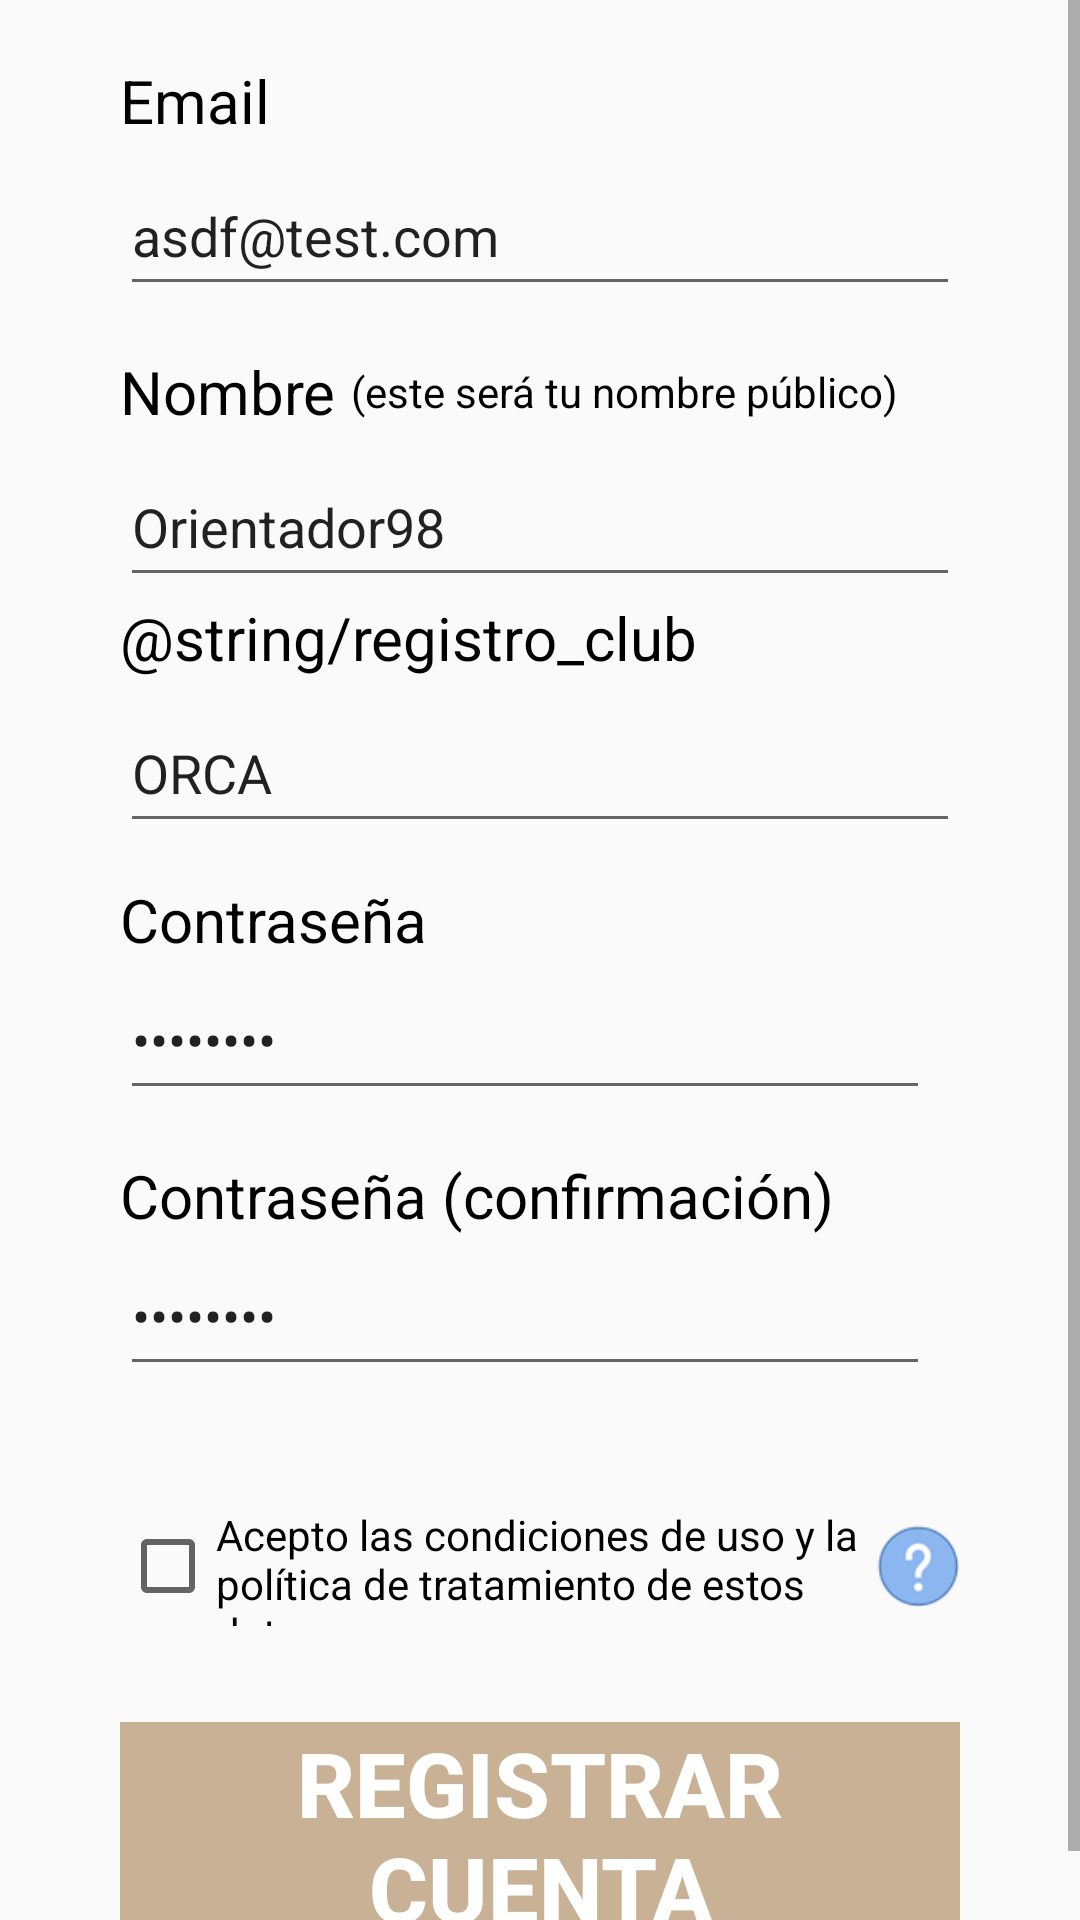

Icons on this 1080px x 1920px Android screen, each with the point to tap as (x,y):
help: (918,1566)
